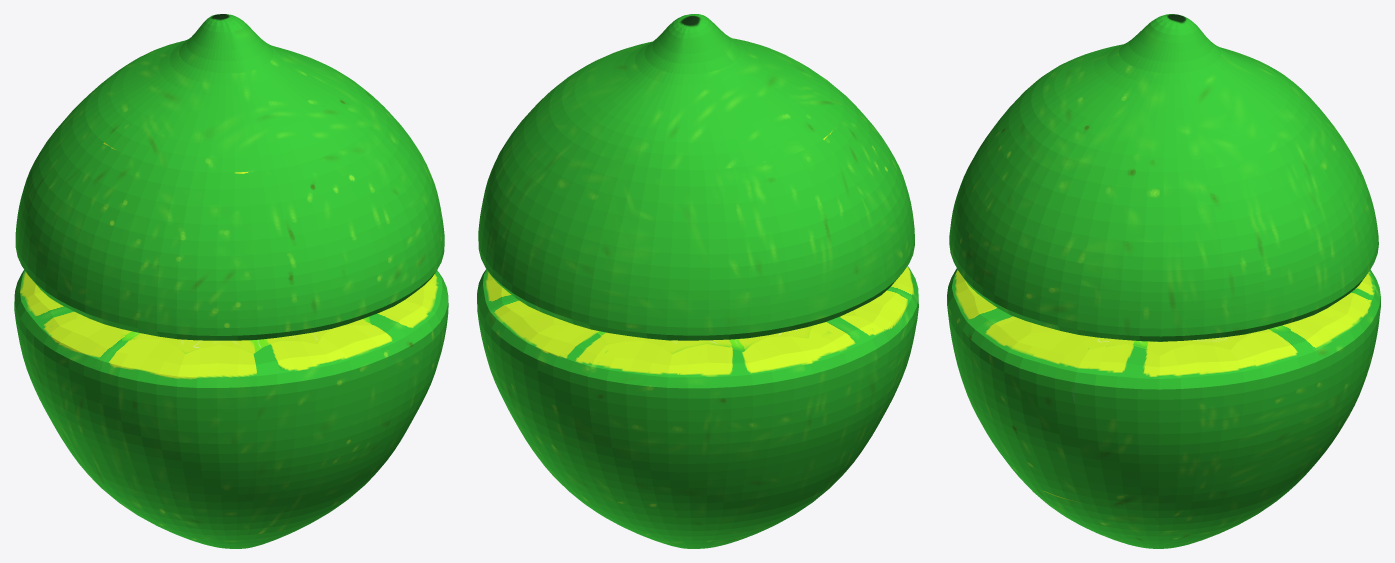
File: LimeSliced.fbx
The picture shows the model from 3 angles, left to right: view 1: azimuth 30°, elevation 25°; view 2: azimuth 150°, elevation 25°; view 3: azimuth 270°, elevation 25°; orthographic projection.
Parts seen in each view (by area): view 1: Top, Bottom; view 2: Top, Bottom; view 3: Top, Bottom.
Part boxes in pixels (left/top/right/bottom): Top: left=15, top=14, right=444, bottom=340; Bottom: left=14, top=270, right=448, bottom=548; Top: left=478, top=14, right=914, bottom=340; Bottom: left=477, top=266, right=918, bottom=548; Top: left=949, top=14, right=1378, bottom=341; Bottom: left=947, top=268, right=1380, bottom=548.
Size of the model in its own units: 368 by 485 by 365.
